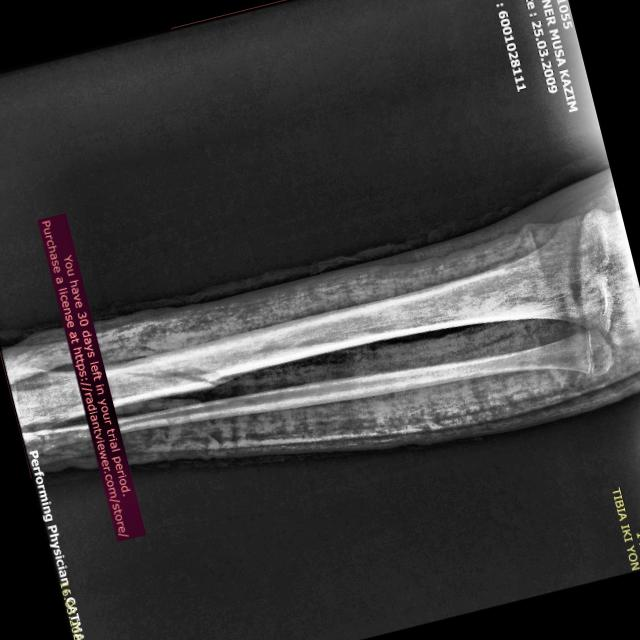Fracture: (115, 332, 238, 412)
